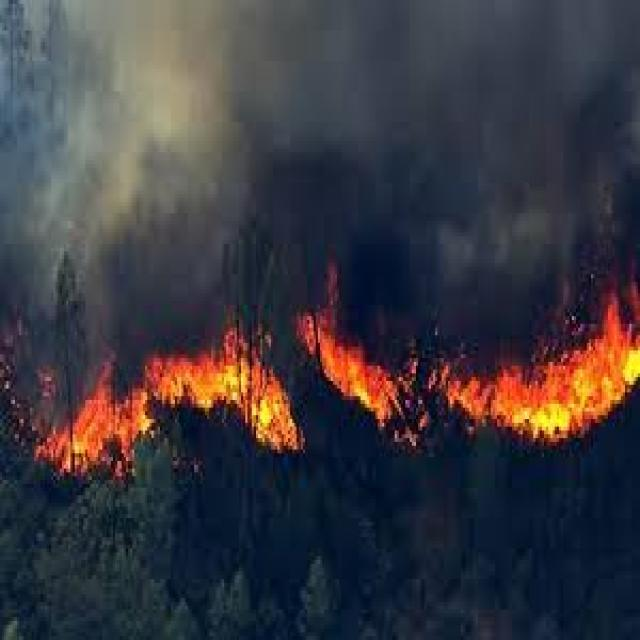Fire: (435, 294, 640, 434), (306, 272, 420, 443), (148, 327, 300, 454), (37, 382, 148, 482)
Smoke: (250, 0, 639, 266), (1, 3, 244, 323)
